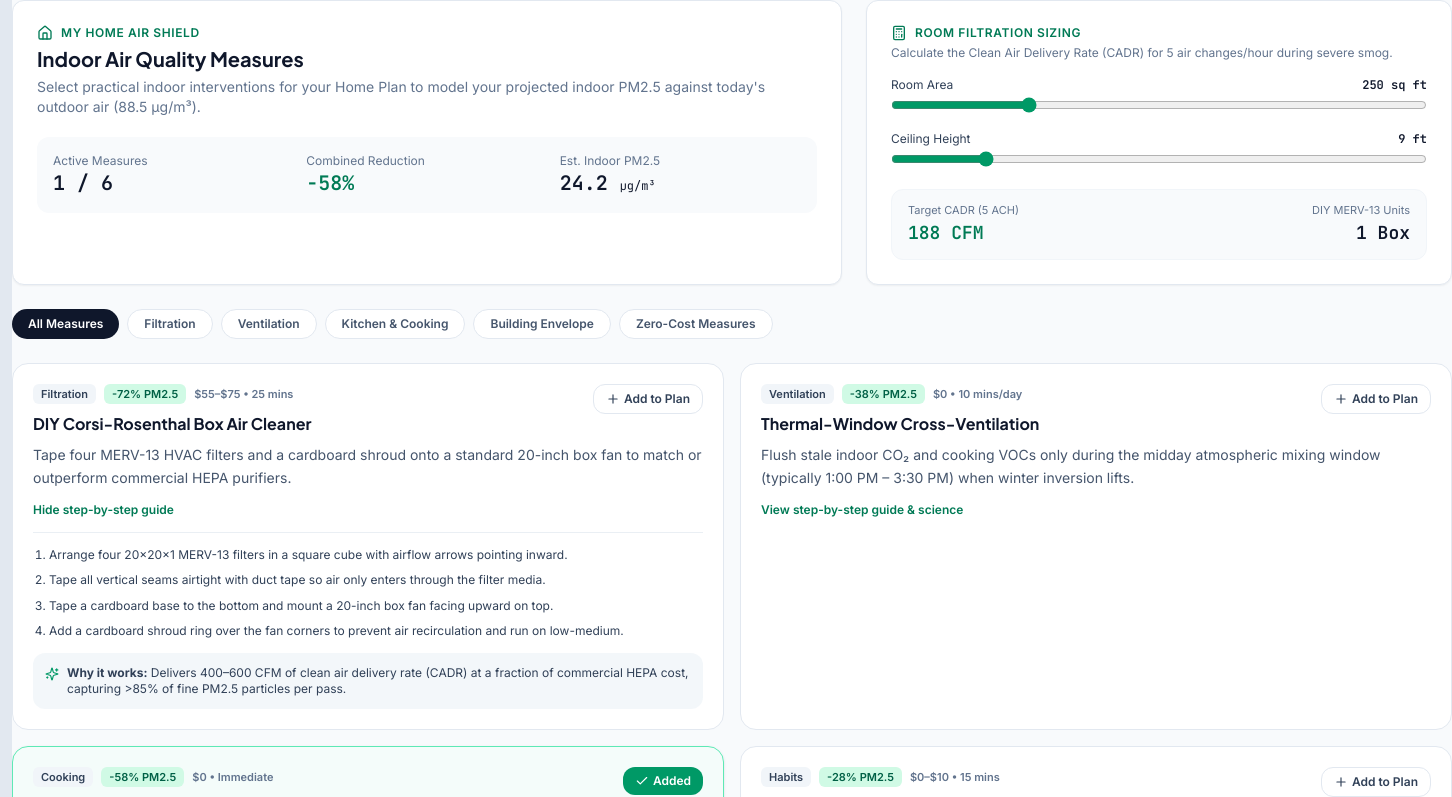
Test: Interactive UI Components › IndoorAirLab updates CADR calculation when room area changes
expect the text "188 CFM" is shown: met, box [908,220,984,244]
Step 1. Set the slider labelled "Room Area" to "600" → (1332, 105), box [891,97,1427,113]
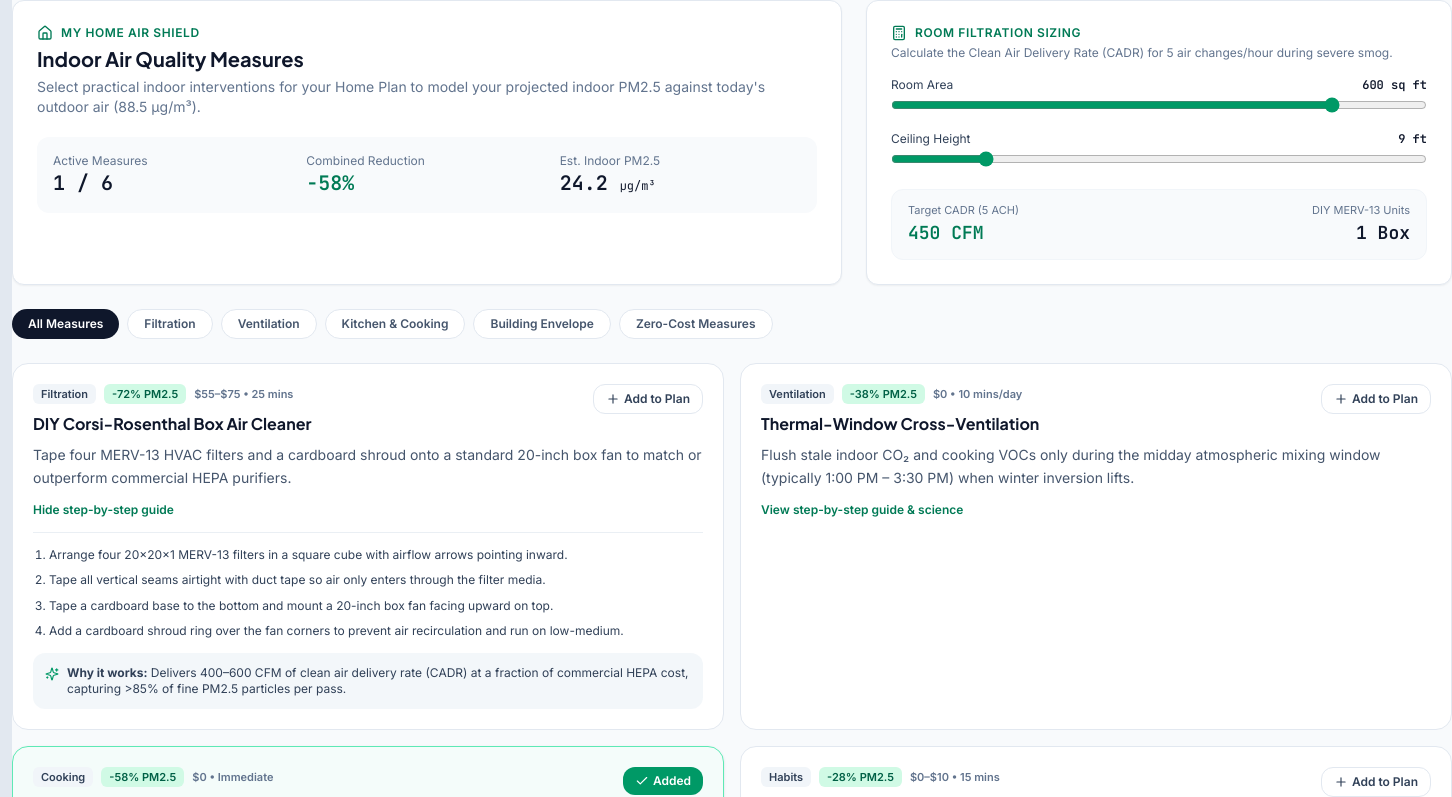
expect the text "450 CFM" is shown: met, box [908,220,984,244]
